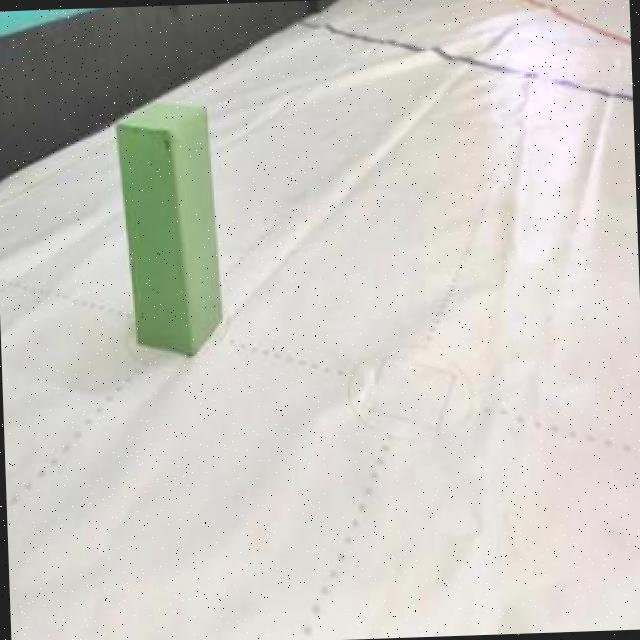greenbox: (112, 99, 225, 364)
